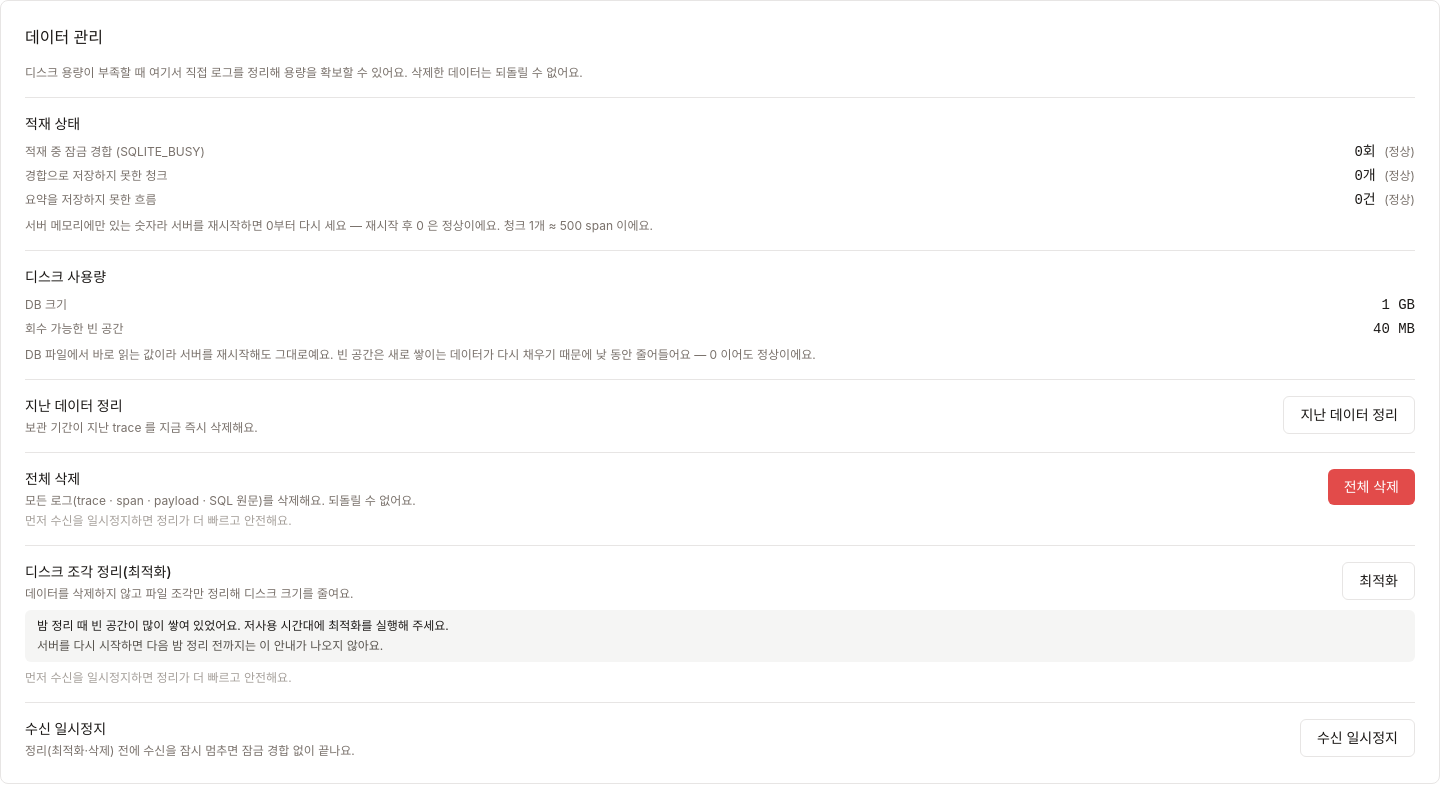
Test: DataManagementSection — [최적화] 권고 (R28/AC-28-05-10·11) › refetchesStatusRightAfterOptimizeSuccessAndDropsTheBox
Check: the text "밤 정리 때 빈 공간이 많이 쌓여 있었어요. 저사용 시간대에 최적화를 실행해 주세요." is shown, box [37,618,449,633]
Click the button "최적화": (1379, 581) [1342,562,1415,600]
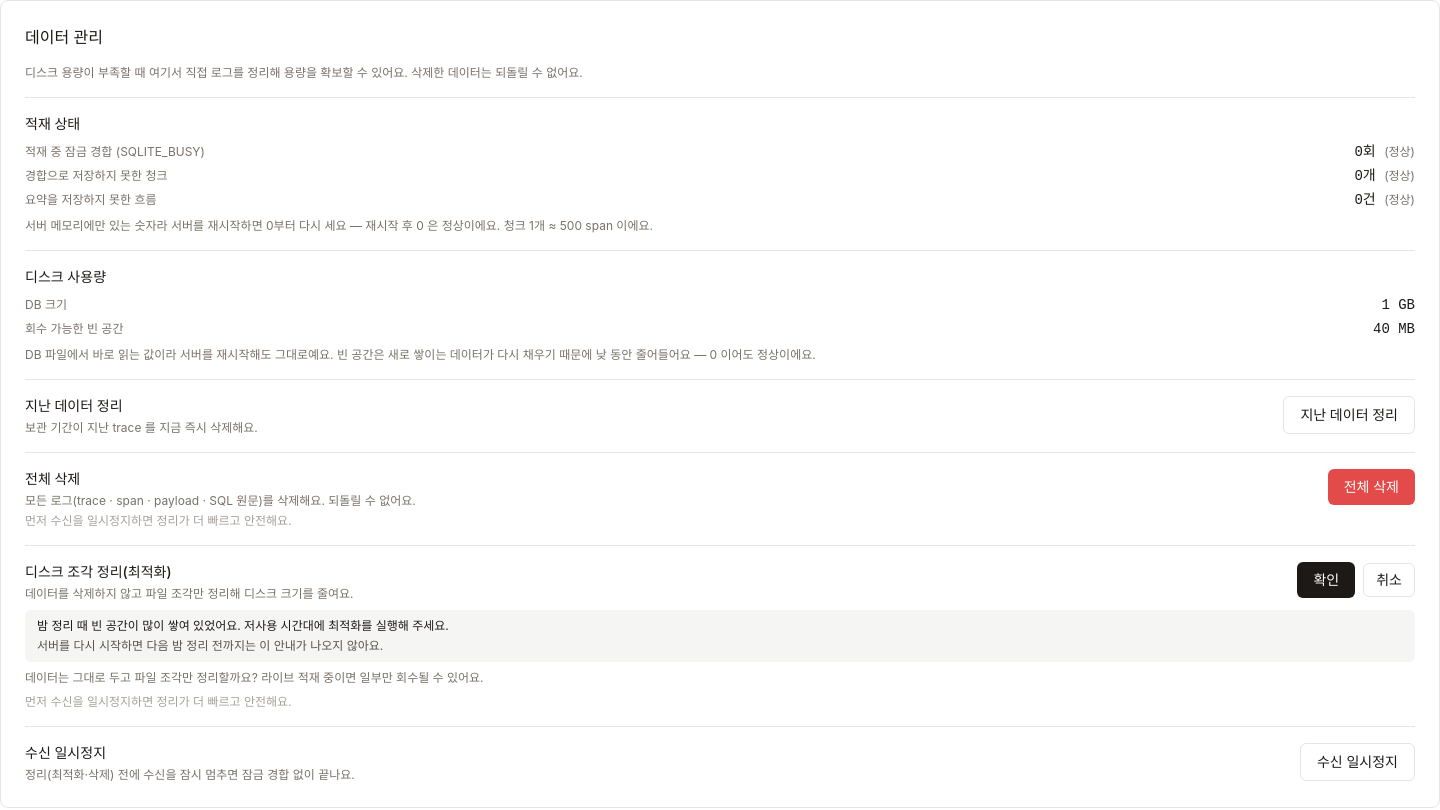
Click the button "확인": (1326, 580) [1298,562,1355,598]
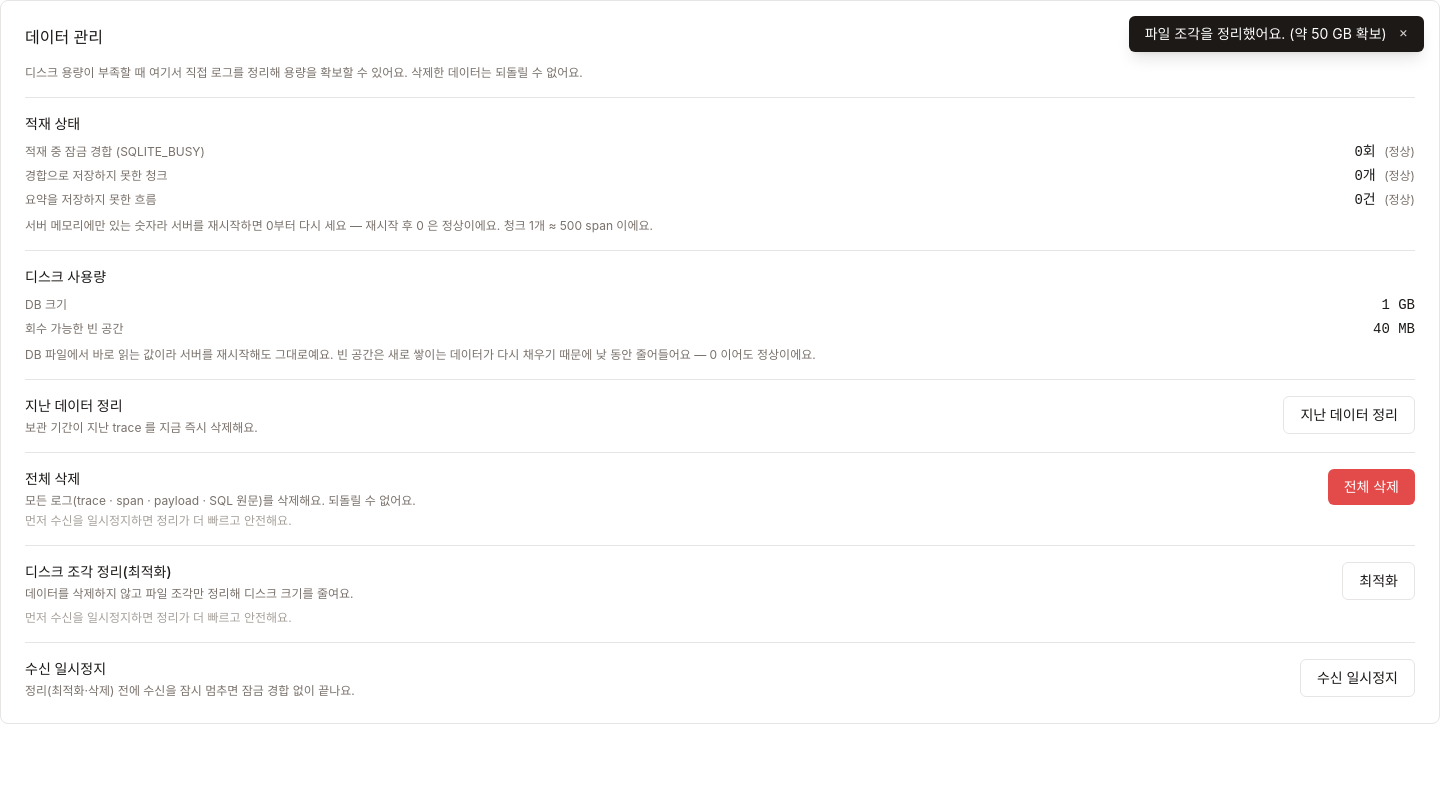
Check: the text "파일 조각을 정리했어요. (약 50 GB 확보)" is shown, box [1145,24,1387,44]
Check: the message with test id "optimize-advice" is gone
